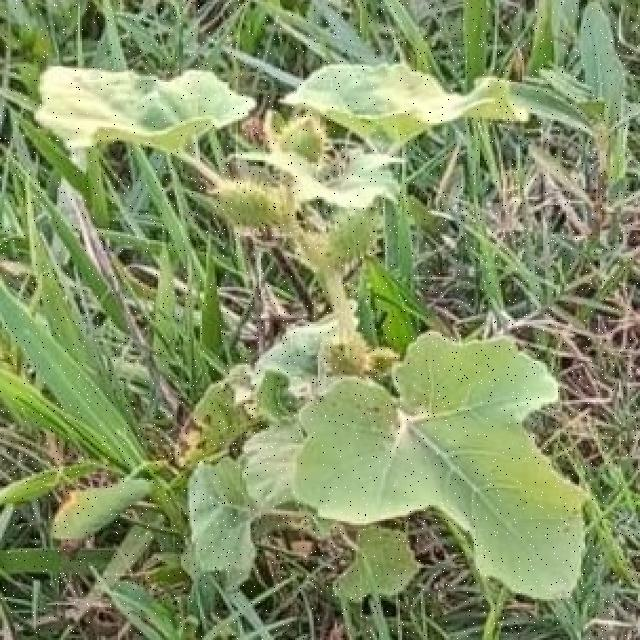weed: (36, 64, 585, 601)
